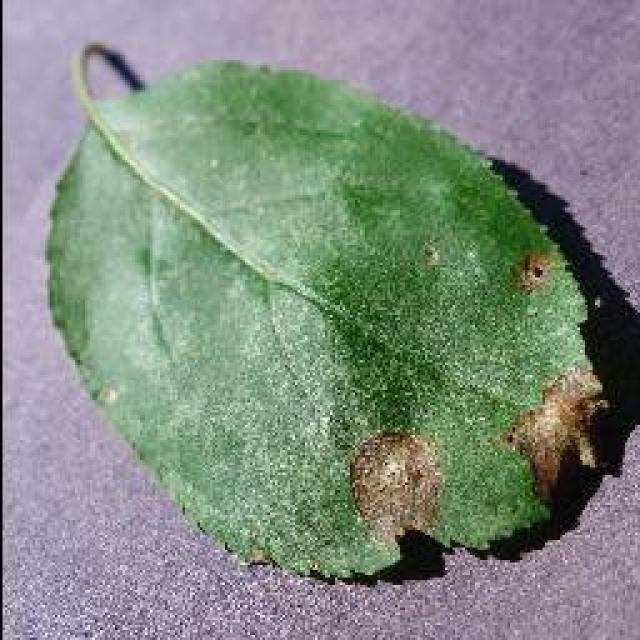apple black rot: (40, 40, 628, 585)
